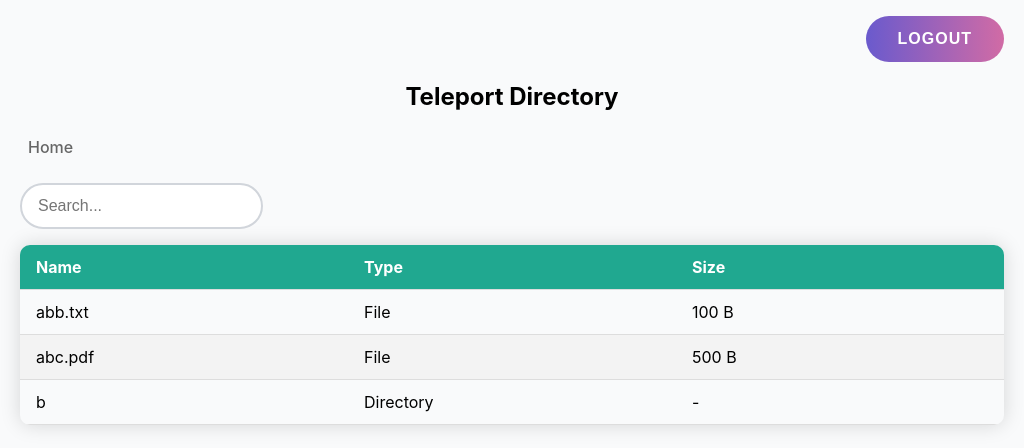
Test: Directory Page › should display "No Results Found" when no rows match the search
Expected: the text "abc.pdf" is shown, x1=20 y1=334 x2=348 y2=379
Step 1. Type "Nobody should show up" into the field with placeholder "Search..." → (142, 206), box x1=20 y1=183 x2=263 y2=229
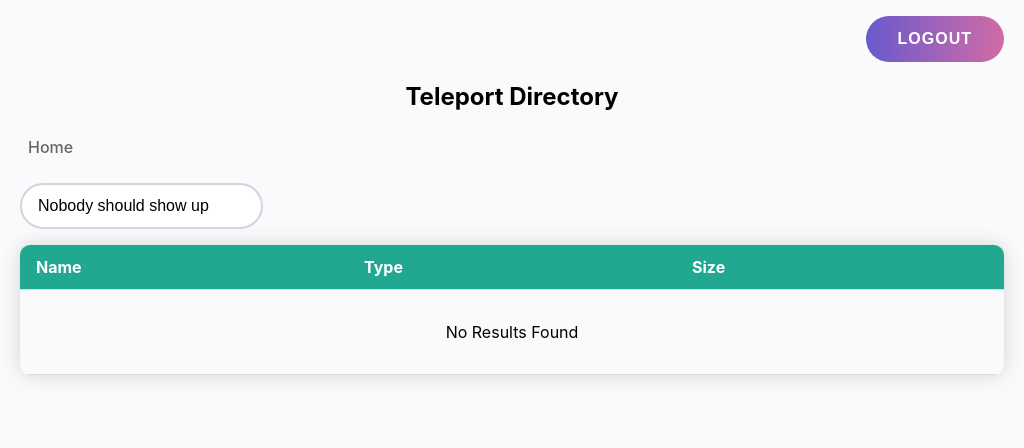
Now the text "No Results Found" is shown, box x1=20 y1=289 x2=1004 y2=374
